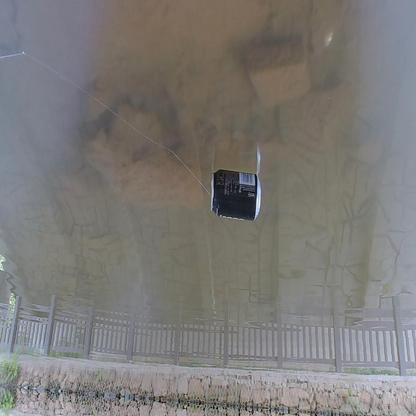can: (210, 169, 261, 222)
